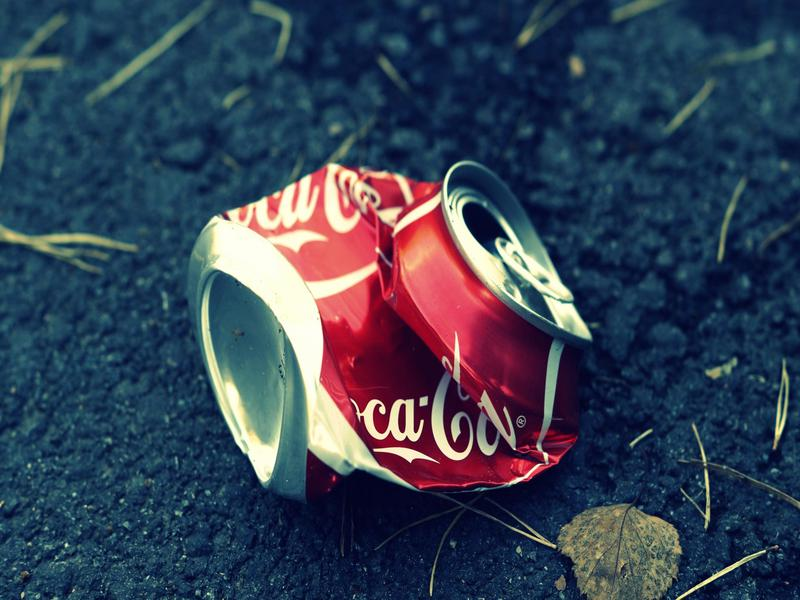can: (178, 156, 597, 511)
leaf: (549, 500, 691, 600)
